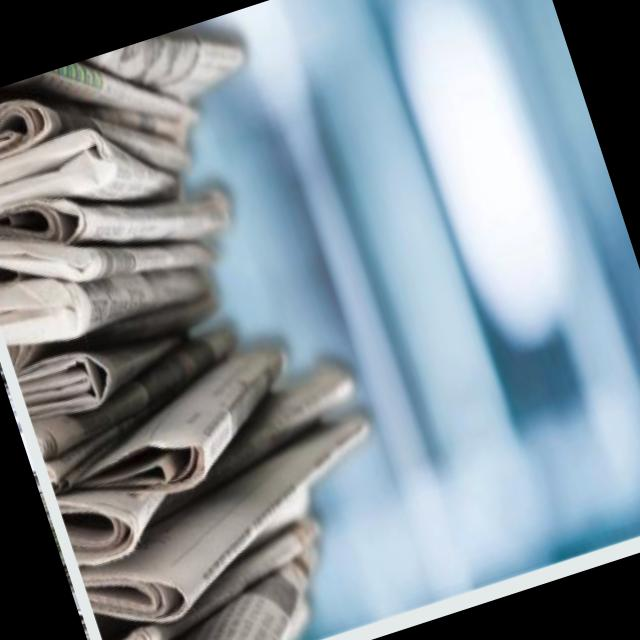Koran: (0, 11, 432, 640)
